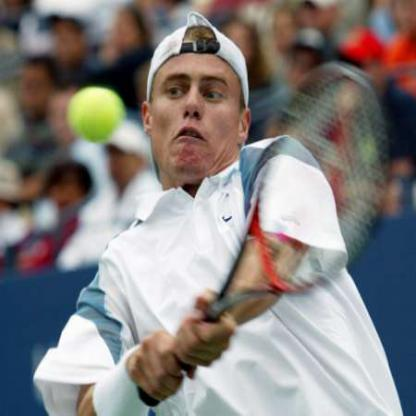face: (149, 27, 245, 181), (21, 59, 58, 116), (57, 19, 86, 68)
